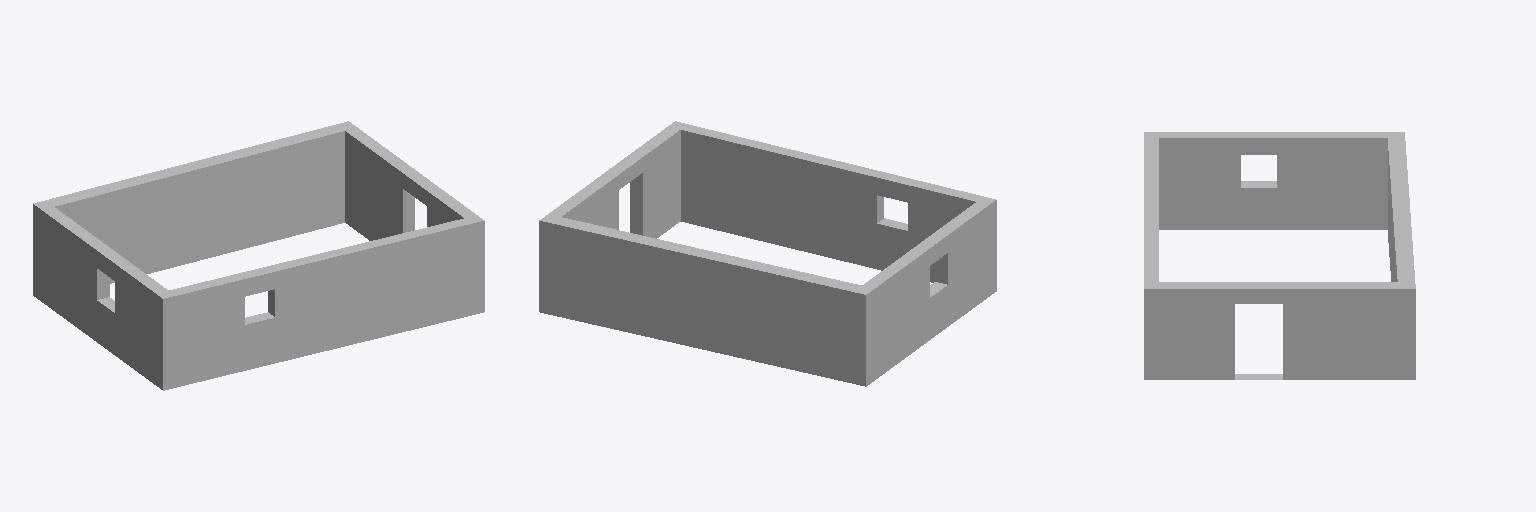
The model's file is hornikomora.obj.
The picture shows the model from 3 angles: view 1: azimuth 30°, elevation 25°; view 2: azimuth 150°, elevation 25°; view 3: azimuth 270°, elevation 25°; orthographic projection.
Parts seen in each view (by area): view 1: Mesh1 horni_komora1 Model; view 2: Mesh1 horni_komora1 Model; view 3: Mesh1 horni_komora1 Model.
Boxes of the visible parts, x1=… form: Mesh1 horni_komora1 Model: x1=33, y1=121, x2=484, y2=390; Mesh1 horni_komora1 Model: x1=539, y1=121, x2=996, y2=386; Mesh1 horni_komora1 Model: x1=1144, y1=132, x2=1415, y2=379.
Size of the model in its own units: 6.3 by 1.72 by 4.61.